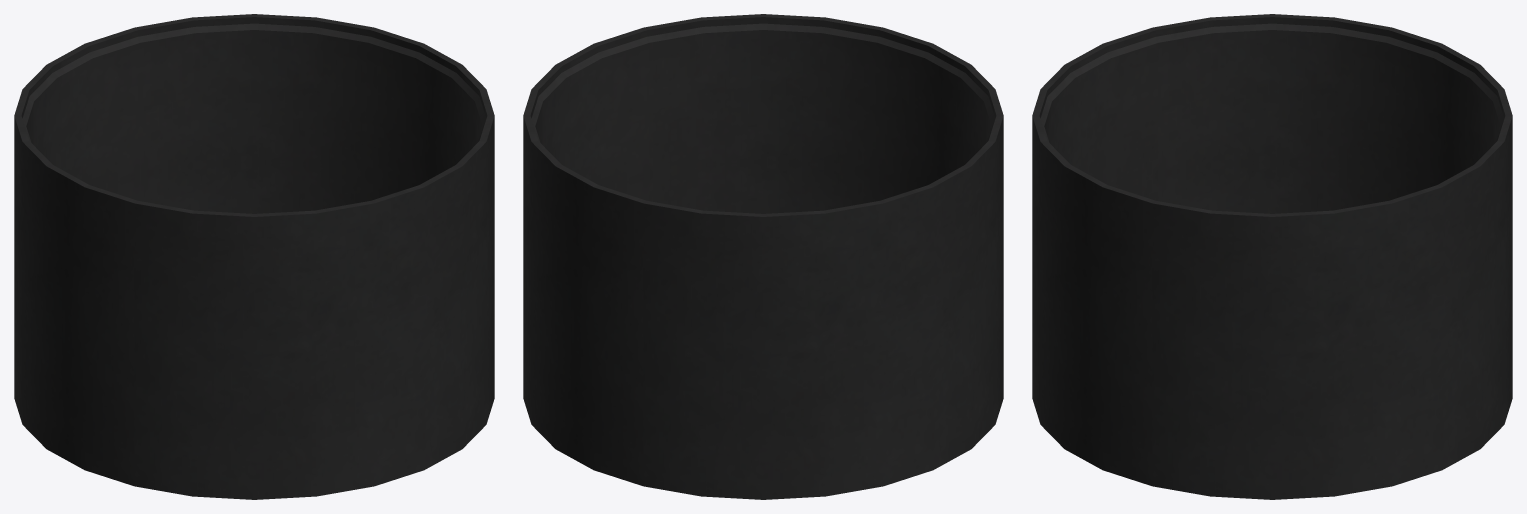
File: stage2interstage1.fbx
3 renders of one model, left to right at view 1: azimuth 30°, elevation 25°; view 2: azimuth 150°, elevation 25°; view 3: azimuth 270°, elevation 25°, orthographic.
Parts seen in each view (by area): view 1: mesh; view 2: mesh; view 3: mesh.
Boxes of the visible parts, <box> form: mesh: <box>14,14,494,499</box>; mesh: <box>523,14,1003,499</box>; mesh: <box>1032,14,1512,499</box>.
Bounding box in the file's own units: 2.5 × 1.63 × 2.5.
